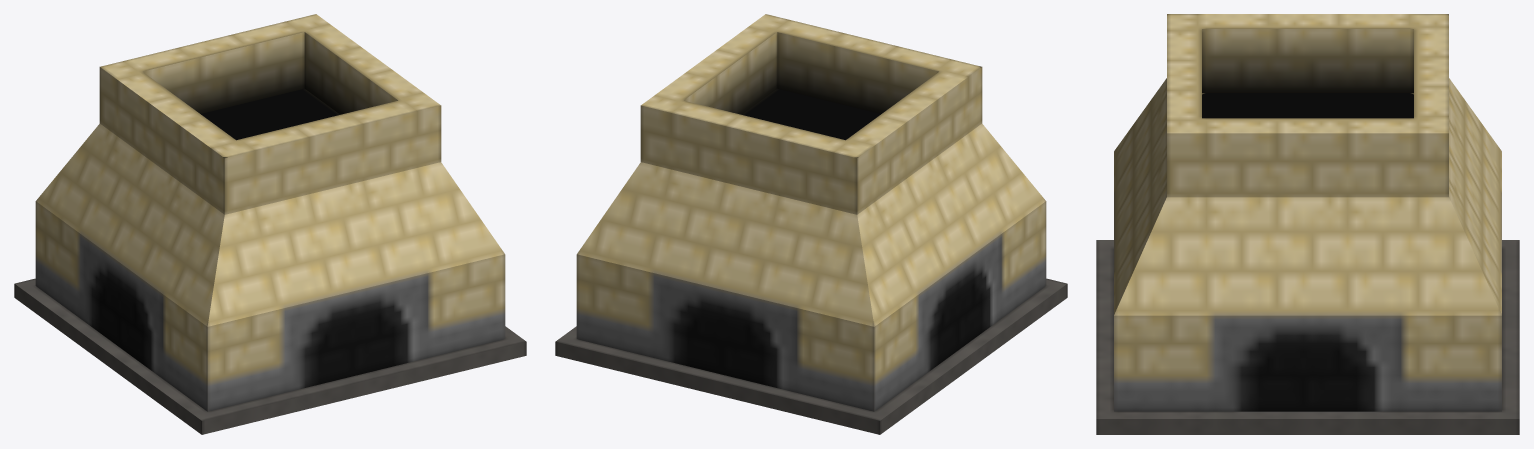
The model's file is combination_oven.obj.
3 views of the same model, side by side, from view 1: azimuth 30°, elevation 25°; view 2: azimuth 150°, elevation 25°; view 3: azimuth 270°, elevation 25° (orthographic). The views are drawn at different scales.
Visible parts, largest first — view 1: Plane; view 2: Plane; view 3: Plane.
Part boxes in pixels (bbox=[...]): Plane: bbox=[14, 14, 526, 434]; Plane: bbox=[555, 14, 1067, 434]; Plane: bbox=[1096, 14, 1519, 434].
Bounding box in the file's own units: 3 × 2.12 × 3.
